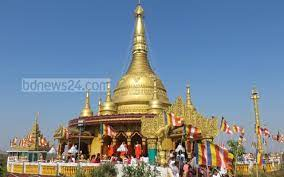Temple: (23, 2, 257, 167)
